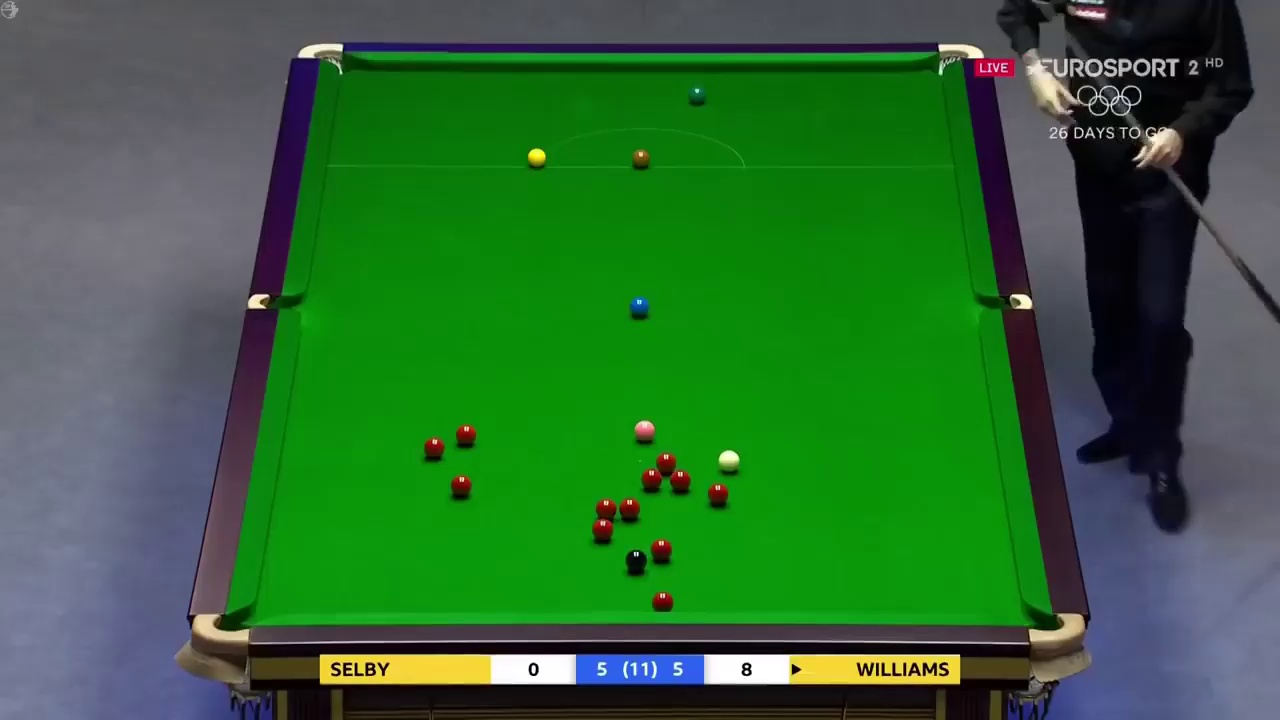ball: (716, 448, 742, 472), (453, 422, 477, 447), (447, 474, 472, 498), (640, 465, 663, 490), (424, 436, 447, 459), (620, 495, 641, 519), (652, 536, 673, 560), (593, 517, 613, 542), (633, 421, 658, 440), (630, 293, 650, 316), (625, 549, 648, 569), (629, 147, 650, 168), (708, 482, 729, 503), (671, 470, 691, 491), (688, 85, 707, 107), (525, 150, 544, 167)
